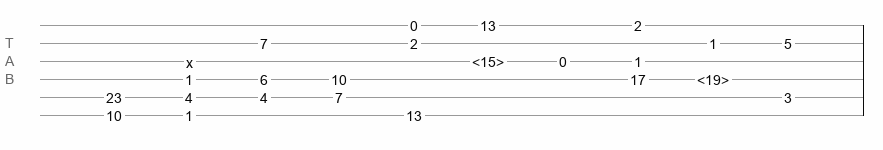0: (410, 18, 418, 28), (559, 54, 567, 64)
1: (185, 108, 193, 118), (185, 72, 193, 82), (634, 54, 642, 64), (709, 36, 717, 46)
10: (106, 108, 122, 118), (331, 72, 347, 82)
13: (406, 108, 422, 118), (480, 18, 496, 28)
17: (630, 72, 646, 82)
2: (410, 36, 418, 46), (634, 18, 642, 28)
23: (106, 90, 122, 100)
3: (784, 90, 792, 100)
4: (185, 90, 193, 100), (260, 90, 268, 100)
5: (784, 36, 792, 46)
6: (260, 72, 268, 82)
7: (260, 36, 268, 46), (335, 90, 343, 100)
harmonic: (472, 54, 504, 64), (697, 72, 729, 82)
x: (186, 55, 193, 63)
